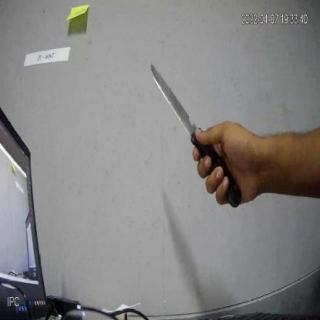knife: (145, 53, 243, 209)
